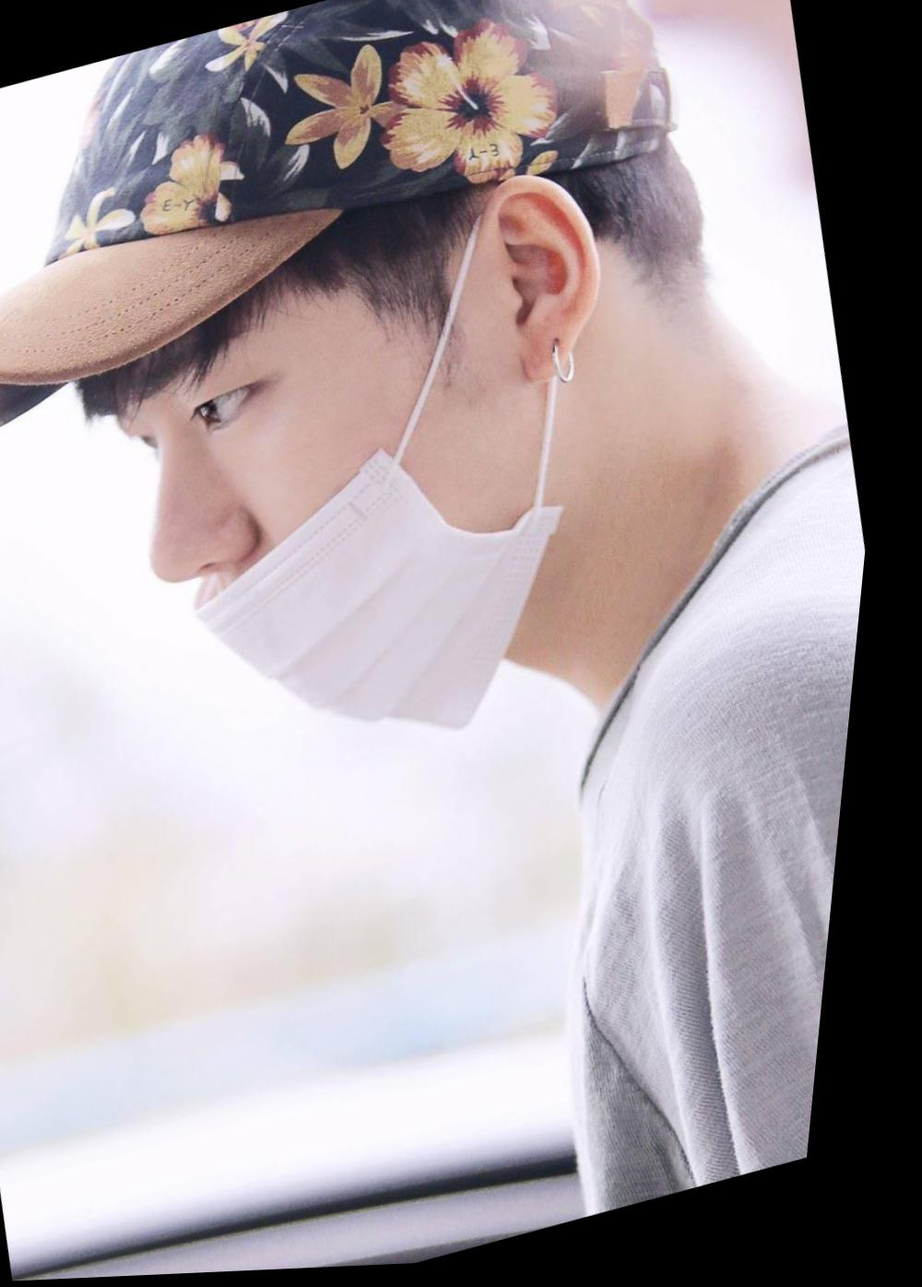WRONG: (68, 195, 686, 789)
